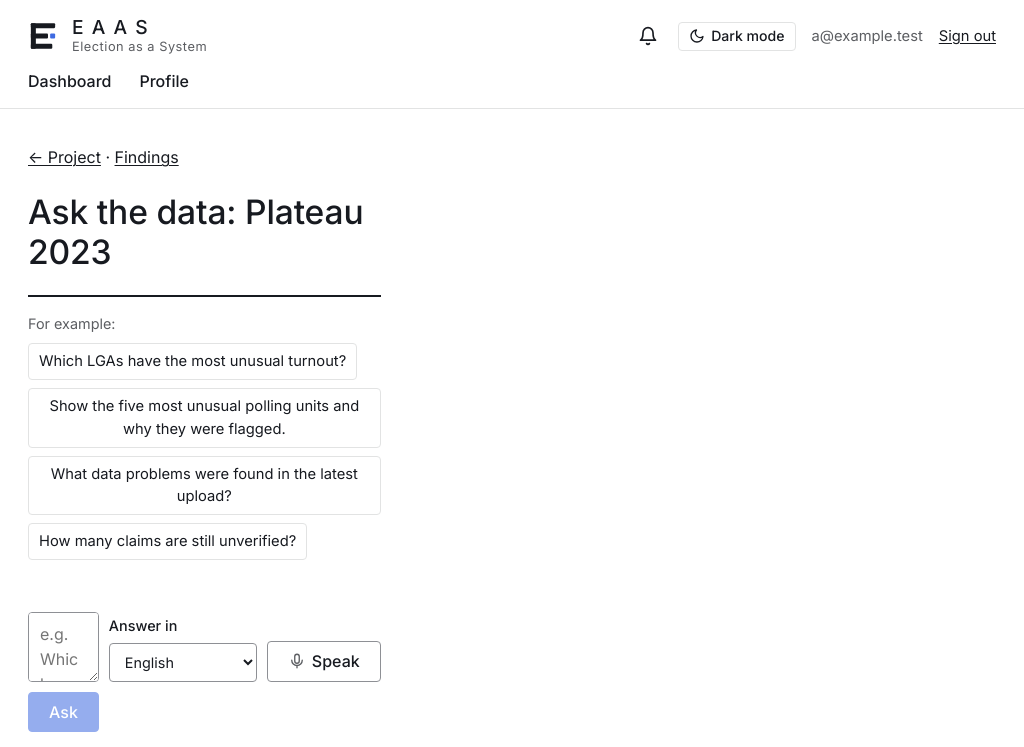
Scenario: data assistant page › asks, shows the answer as text with source links and the AI label
Click the button "Which LGAs have the most unusual turnout?". click: (193, 362)
box: [28,343,357,380]
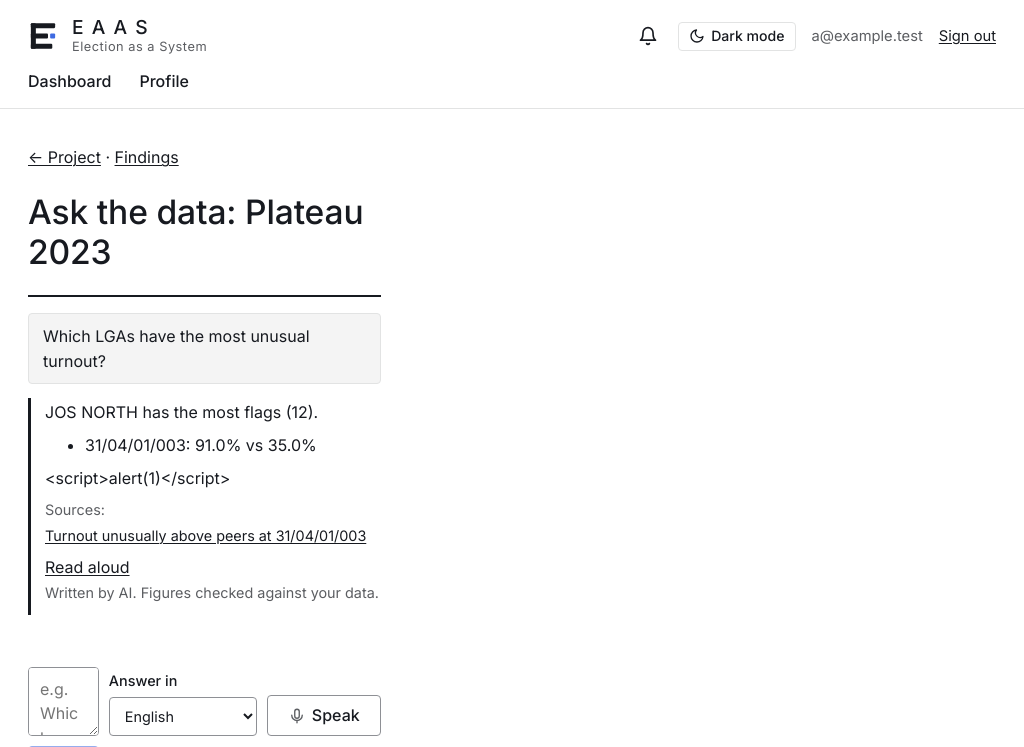
Expected: the text "JOS NORTH has the most flags (12)." is shown, [45,402,318,422]
Expected: the text "<script>alert(1)</script>" is shown, [45,468,230,488]
Expected: the text "Written by AI. Figures checked against your data." is shown, [45,582,381,604]
